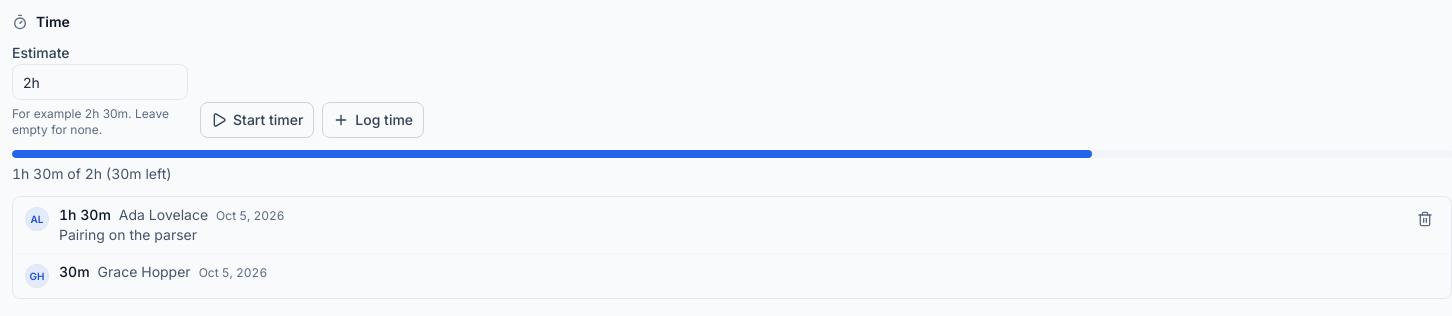
Scenario: TaskTimeSection › starts a timer from the button
Step 1. Click the button "Start timer" → (257, 120), box [200, 102, 314, 138]
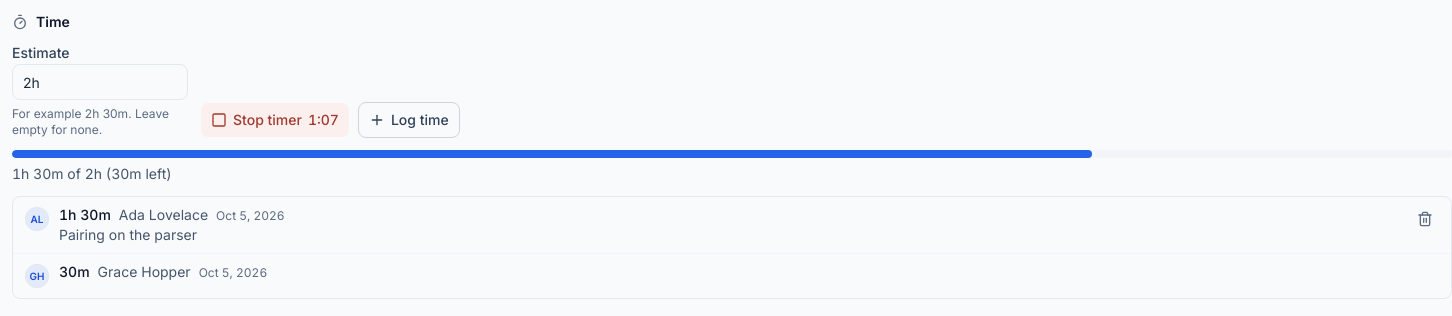
expect the button "Stop timer 1:07" is shown: met, box [200, 102, 350, 138]
